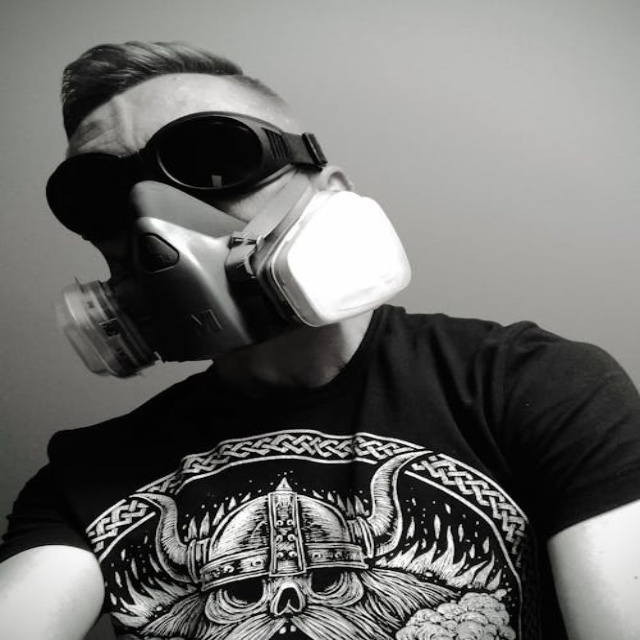Gafas: (48, 111, 326, 239)
Mascara: (33, 178, 421, 382)
